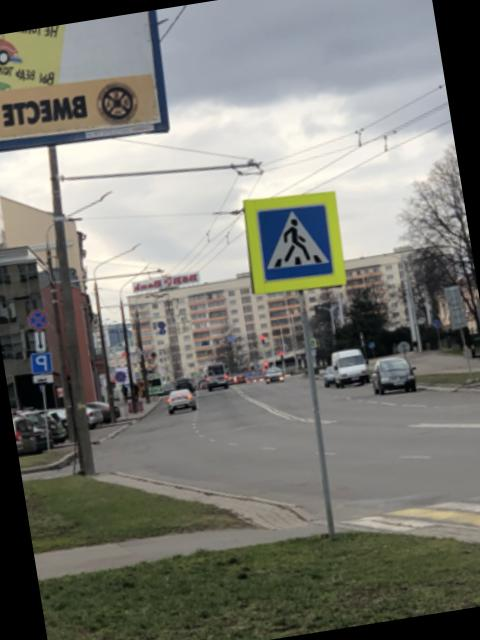crosswalk-sign: (240, 185, 353, 299)
